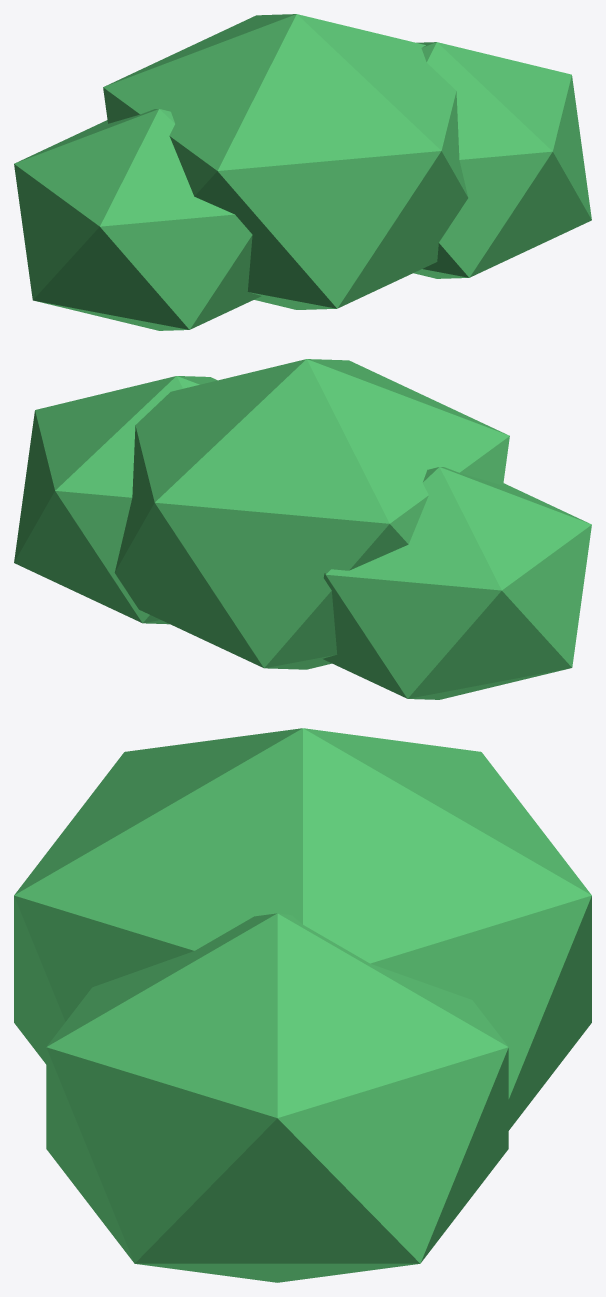
The model's file is Bush.fbx.
3 renders of one model, top to bottom at view 1: azimuth 30°, elevation 25°; view 2: azimuth 150°, elevation 25°; view 3: azimuth 270°, elevation 25°, orthographic. The views are drawn at different scales.
Visible parts, largest first — view 1: BushLeaf_0, BushLeaf_-0.28, BushLeaf_0.28; view 2: BushLeaf_0, BushLeaf_-0.28, BushLeaf_0.28; view 3: BushLeaf_0.28, BushLeaf_0.
Part boxes in pixels (box(x1,y1,x2,y2)): BushLeaf_0: box(103, 14, 468, 309); BushLeaf_-0.28: box(14, 109, 261, 330); BushLeaf_0.28: box(413, 42, 591, 278); BushLeaf_0: box(114, 359, 509, 669); BushLeaf_-0.28: box(323, 467, 591, 699); BushLeaf_0.28: box(14, 376, 217, 624); BushLeaf_0.28: box(46, 913, 508, 1282); BushLeaf_0: box(14, 728, 591, 1130).
Size of the model in its own units: 1.11 by 0.6 by 0.6805.
